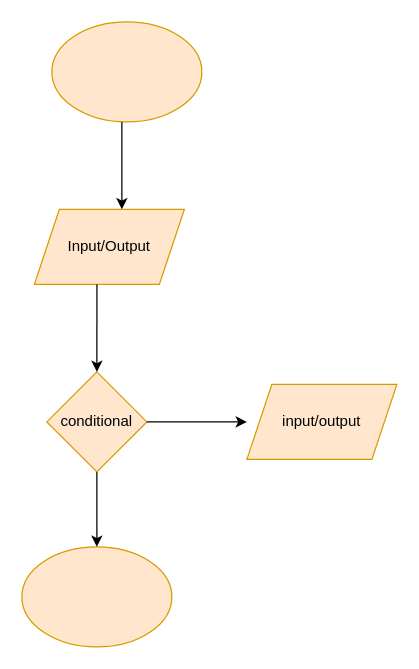
Some shapes in this 419 by 669 pixel diagram are drawn without their labels. The centre of each missing label's shape, as x and y in pixels:
End: point 96,596
Start: point 126,71
